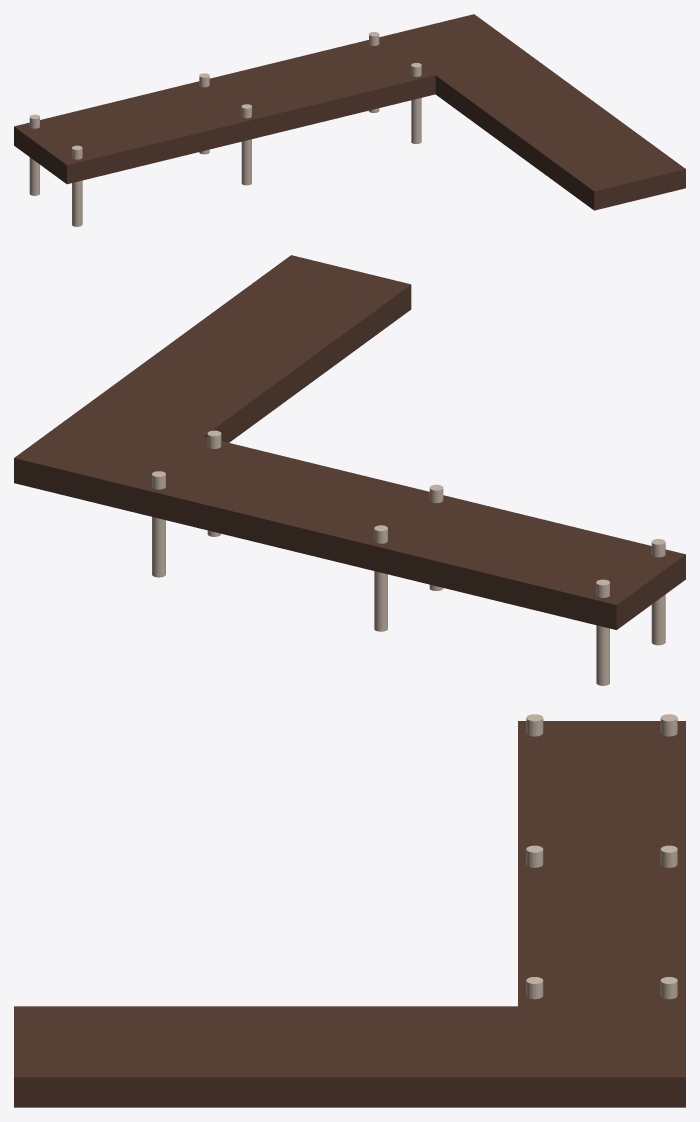
Rendered from dock.fbx.
3 views of the same model, one above another, from view 1: azimuth 30°, elevation 25°; view 2: azimuth 150°, elevation 25°; view 3: azimuth 270°, elevation 25° (orthographic). The views are drawn at different scales.
Visible parts, largest first — view 1: Cube, Cube_002, Cylinder_002, Cylinder_001, Cylinder_004, Cylinder; view 2: Cube, Cube_002, Cylinder, Cylinder_003, Cylinder_005, Cylinder_001; view 3: Cube_002, Cube.
Boxes of the visible parts, box(x1,y1,x2,y2) form: Cube: box(14, 36, 436, 184); Cube_002: box(383, 14, 685, 210); Cylinder_002: box(241, 104, 251, 185); Cylinder_001: box(72, 145, 82, 226); Cylinder_004: box(411, 63, 421, 143); Cylinder: box(29, 114, 39, 195); Cube: box(131, 436, 685, 629); Cube_002: box(14, 255, 411, 511); Cylinder: box(596, 579, 609, 685); Cylinder_003: box(374, 525, 387, 631); Cylinder_005: box(152, 471, 165, 577); Cylinder_001: box(651, 539, 665, 645); Cube_002: box(14, 1006, 685, 1107); Cube: box(518, 721, 685, 1007).
Size of the model in its own units: 2.51 by 0.4 by 2.
